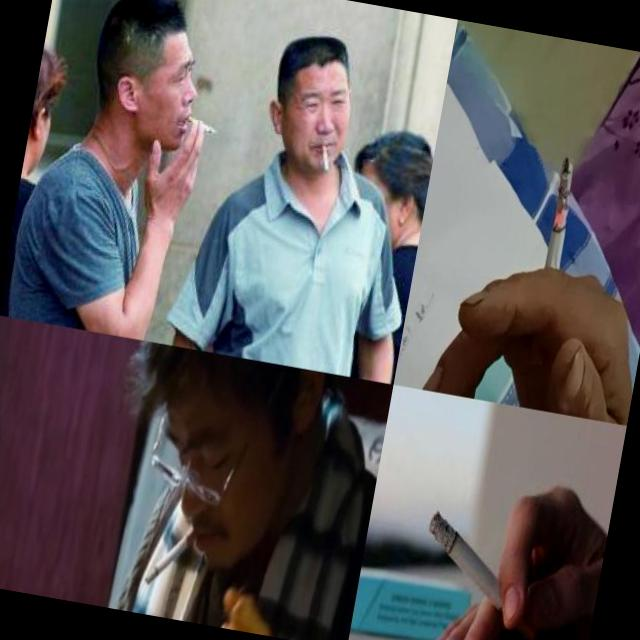smoke: (412, 508, 553, 640), (540, 154, 580, 294), (140, 517, 200, 594), (182, 114, 218, 135), (316, 140, 334, 174)
